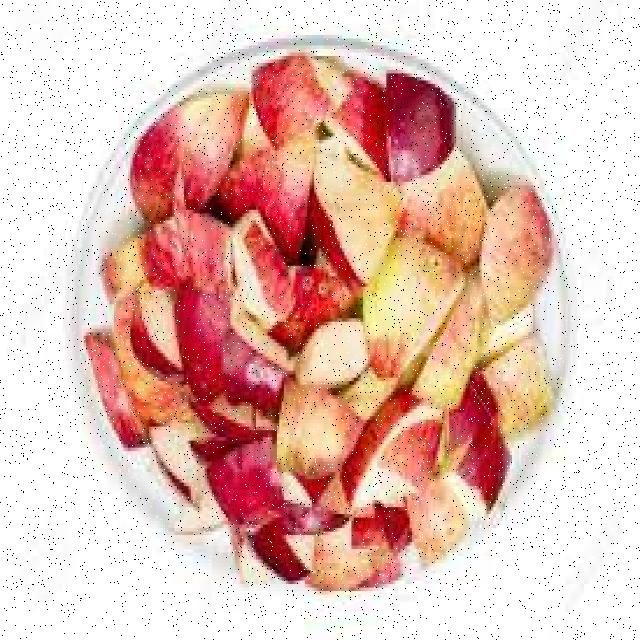Apple: (362, 232, 454, 367), (376, 68, 460, 193), (393, 163, 491, 270), (478, 191, 554, 323), (230, 214, 306, 341), (301, 176, 381, 286), (276, 379, 352, 489), (251, 58, 338, 154), (175, 90, 241, 214), (86, 325, 147, 452), (420, 289, 482, 410), (342, 394, 414, 498), (327, 64, 387, 188), (138, 220, 232, 298), (202, 436, 284, 524), (481, 346, 555, 434), (131, 122, 192, 225), (131, 282, 189, 388), (294, 535, 402, 588), (450, 403, 502, 510), (140, 415, 205, 498), (393, 486, 467, 558), (290, 322, 368, 386), (283, 271, 357, 321), (258, 527, 314, 593), (385, 427, 441, 490), (349, 509, 412, 562), (168, 500, 222, 544), (221, 530, 258, 584)
